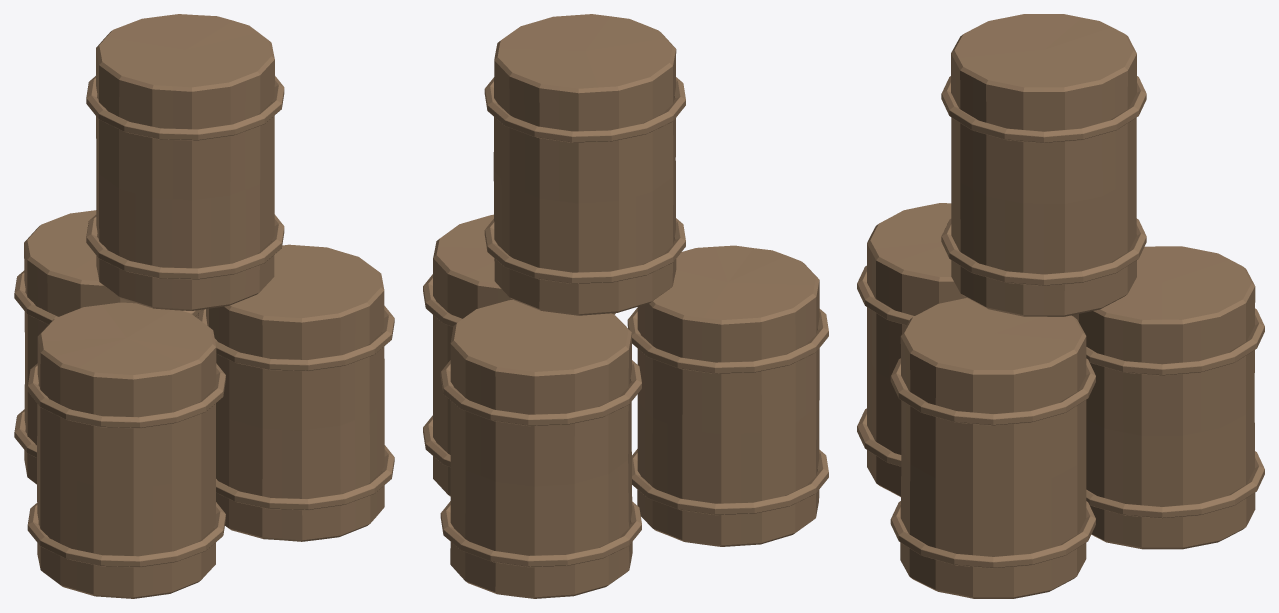
File: p_barrels.glb
3 renders of one model, left to right at view 1: azimuth 30°, elevation 25°; view 2: azimuth 150°, elevation 25°; view 3: azimuth 270°, elevation 25°, orthographic. The views are drawn at different scales.
Visible parts, largest first — view 1: barrels; view 2: barrels; view 3: barrels.
Part boxes in pixels (bbox=[...]): barrels: bbox=[14, 14, 394, 598]; barrels: bbox=[423, 14, 828, 598]; barrels: bbox=[857, 14, 1264, 598].
Size of the model in its own units: 1.51 by 1.84 by 1.45.
